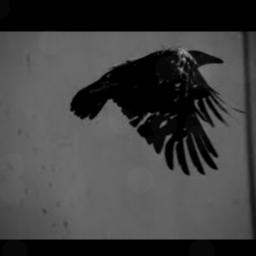Crow: (69, 48, 246, 175)
